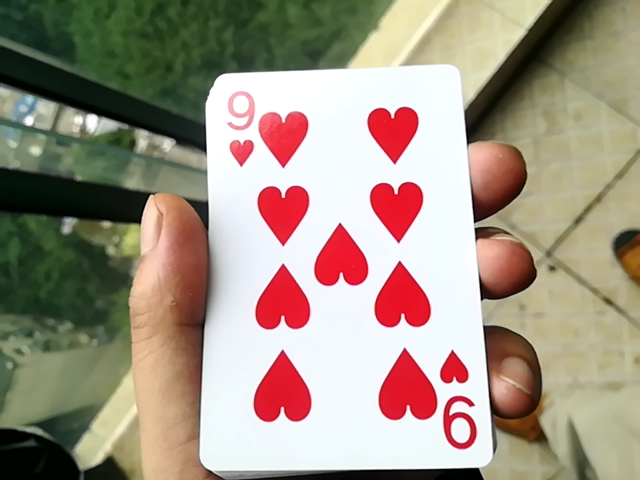hx 9: (181, 61, 487, 480)
